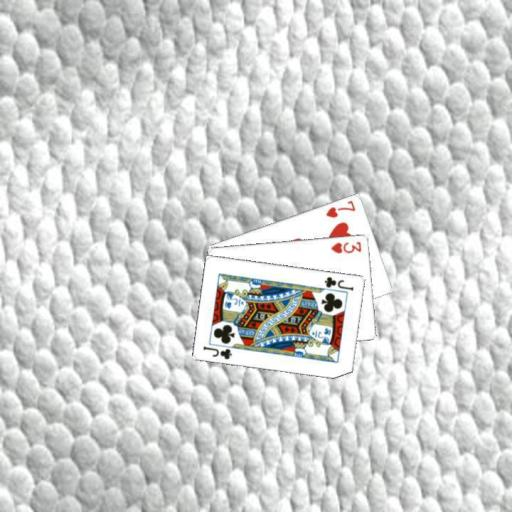card-corner: (323, 197, 357, 219), (322, 273, 356, 292), (328, 238, 362, 255), (201, 342, 233, 360)
